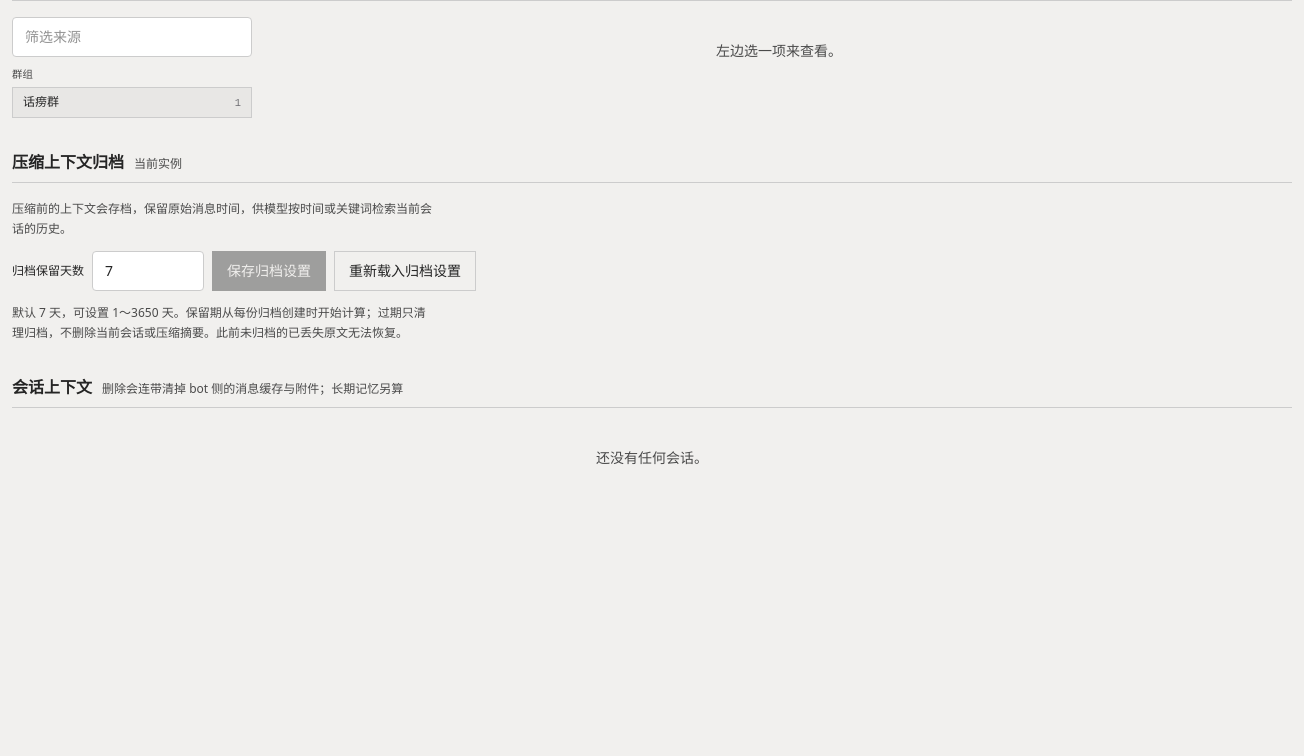
Test: 记忆条目 › 一份里堆了三十条也只铺十二条
Click the button "话痨群 1". click: click(132, 103)
box: top-left (12, 87), bottom-right (252, 118)
(page scrolled)
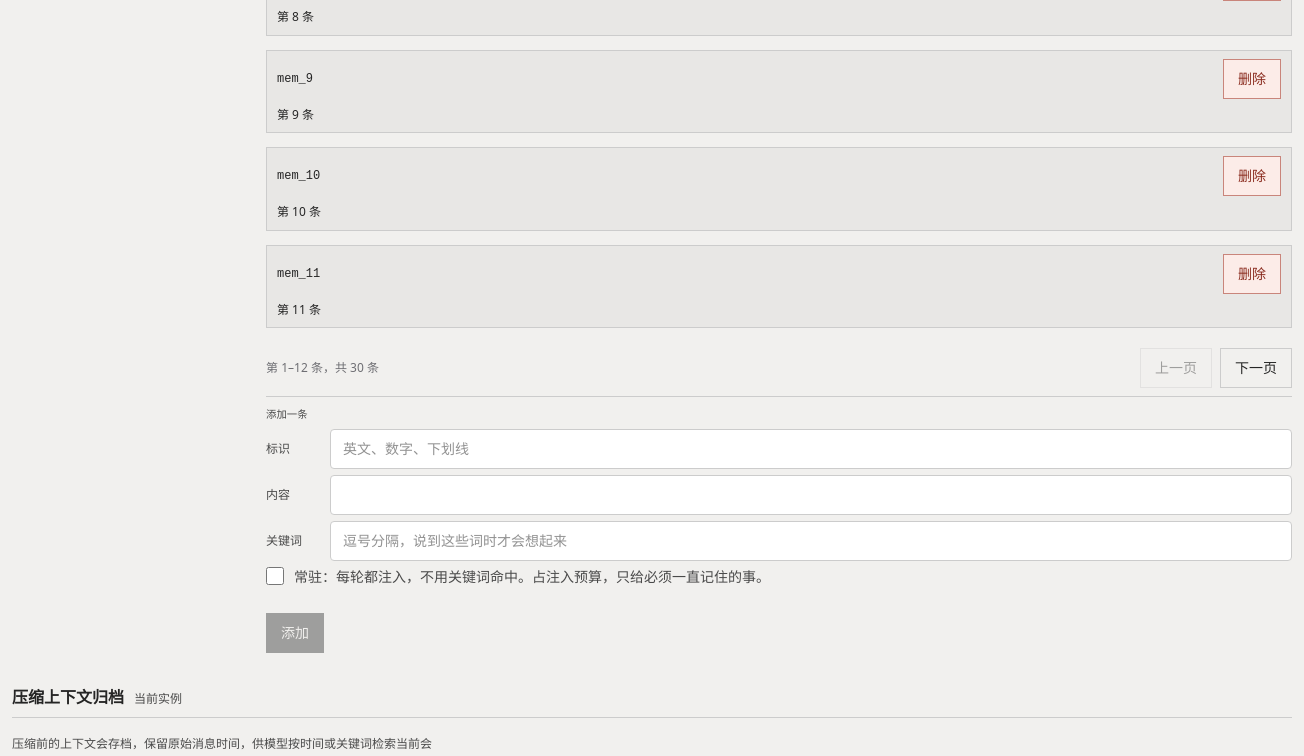
expect the text "第 1–12 条，共 30 条" is shown: met, box top-left (266, 360), bottom-right (379, 376)
